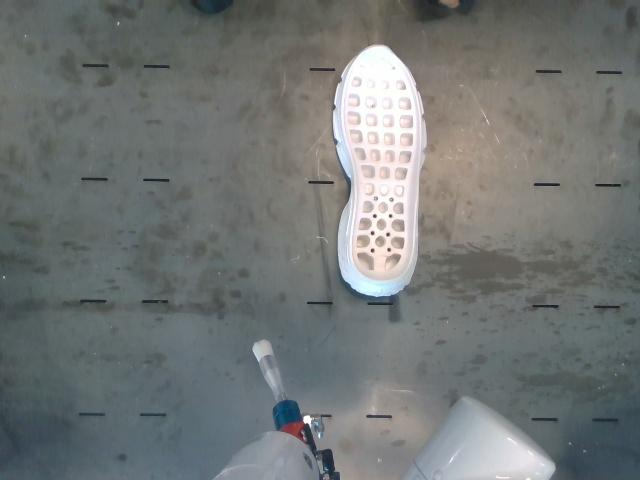shoes: (342, 46, 420, 281)
